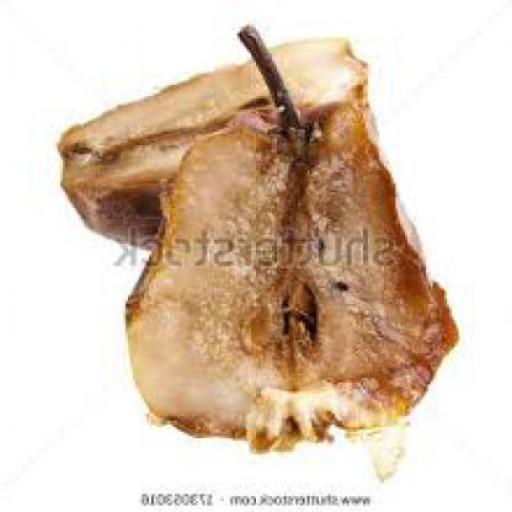biodegradable: (126, 22, 461, 443), (62, 36, 375, 248)
